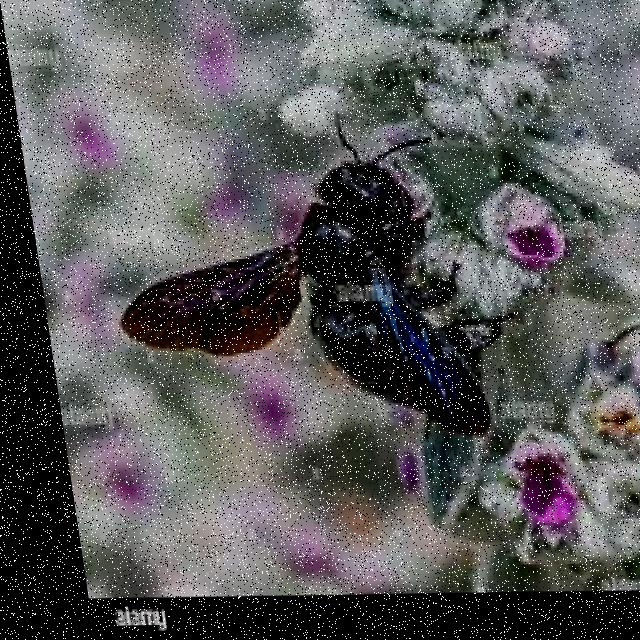Xylocopa: (93, 115, 539, 438)
